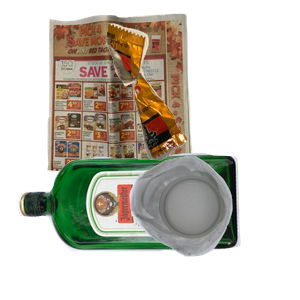glass: (14, 150, 247, 300)
paper: (44, 11, 229, 181)
plastic: (127, 154, 300, 300)
trash: (103, 21, 300, 174)
